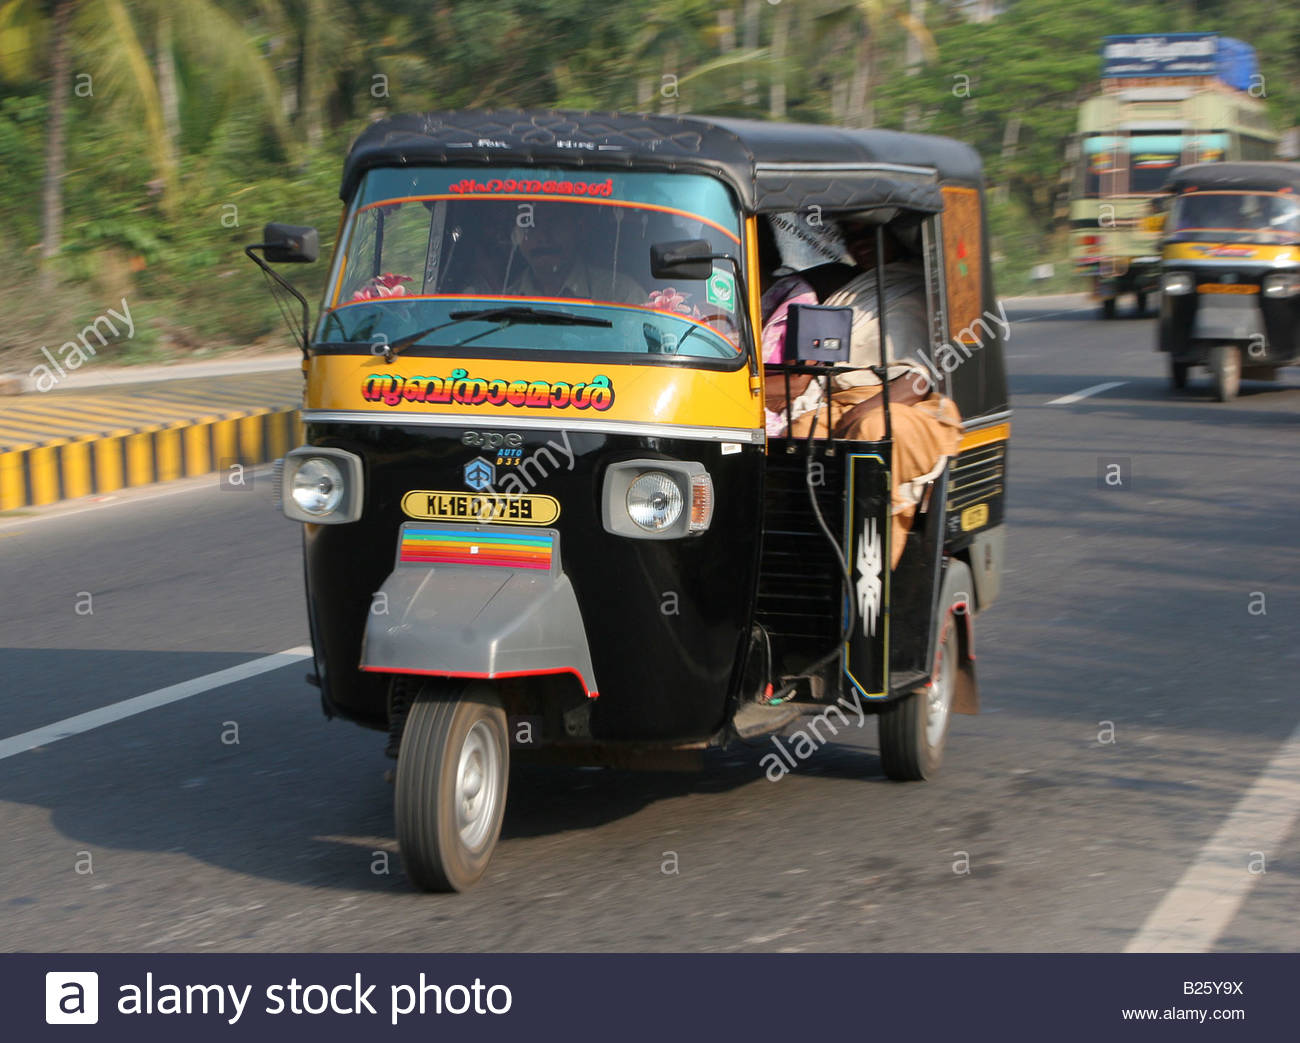auto: (272, 106, 1015, 893), (1153, 163, 1300, 404)
